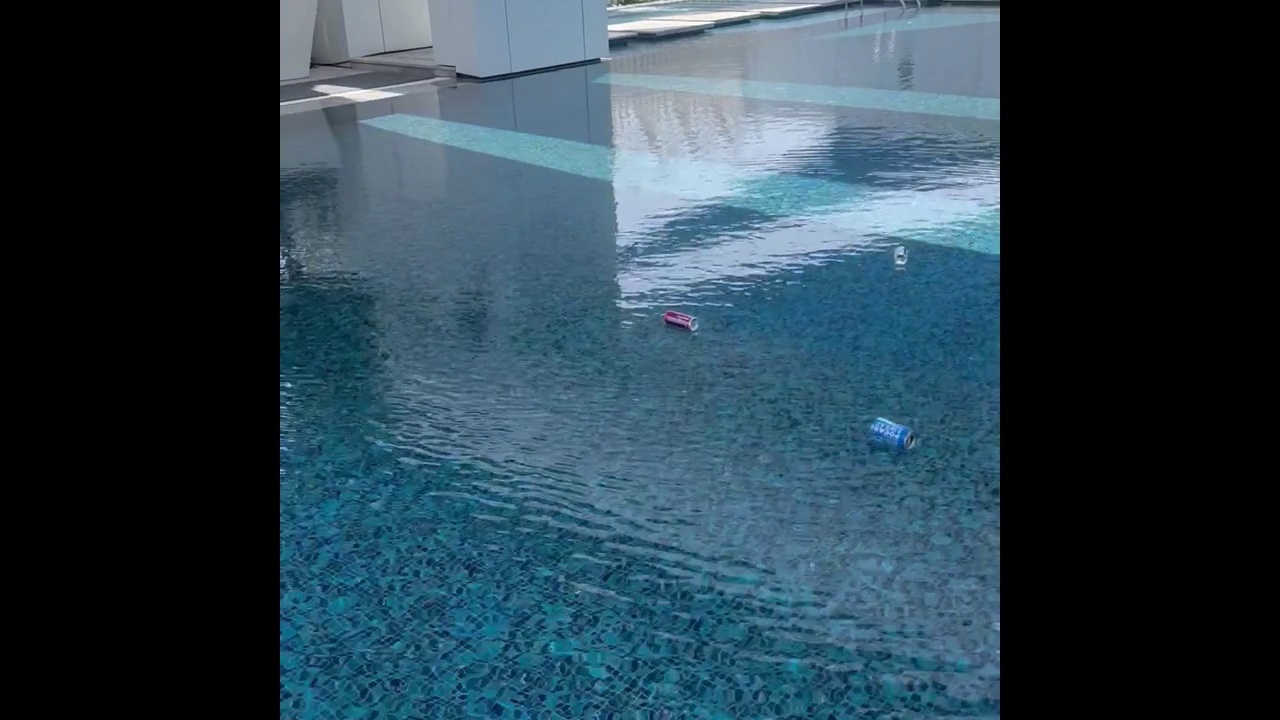debris: (863, 411, 920, 459), (660, 304, 702, 334), (889, 243, 912, 268)
